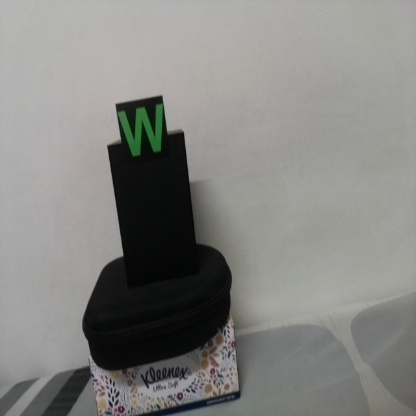id_12: (115, 101, 173, 163)
